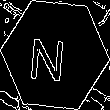N_N: (35, 28, 75, 82)
